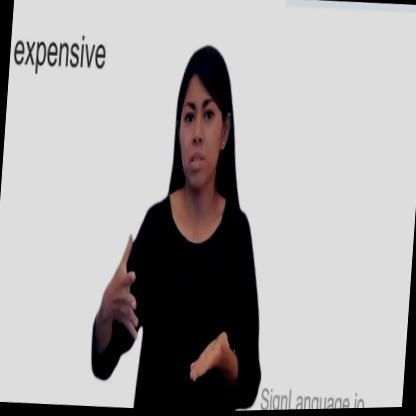Expensive: (91, 213, 242, 411)
